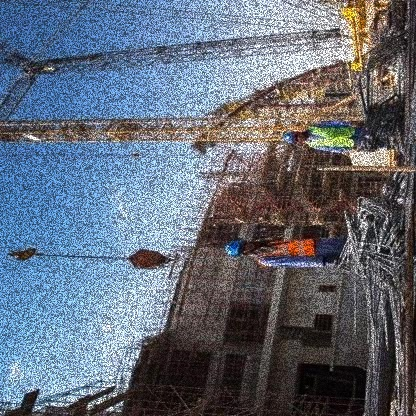blue: (221, 237, 244, 260), (282, 130, 295, 147)
vest: (251, 238, 316, 270), (304, 124, 356, 152)
